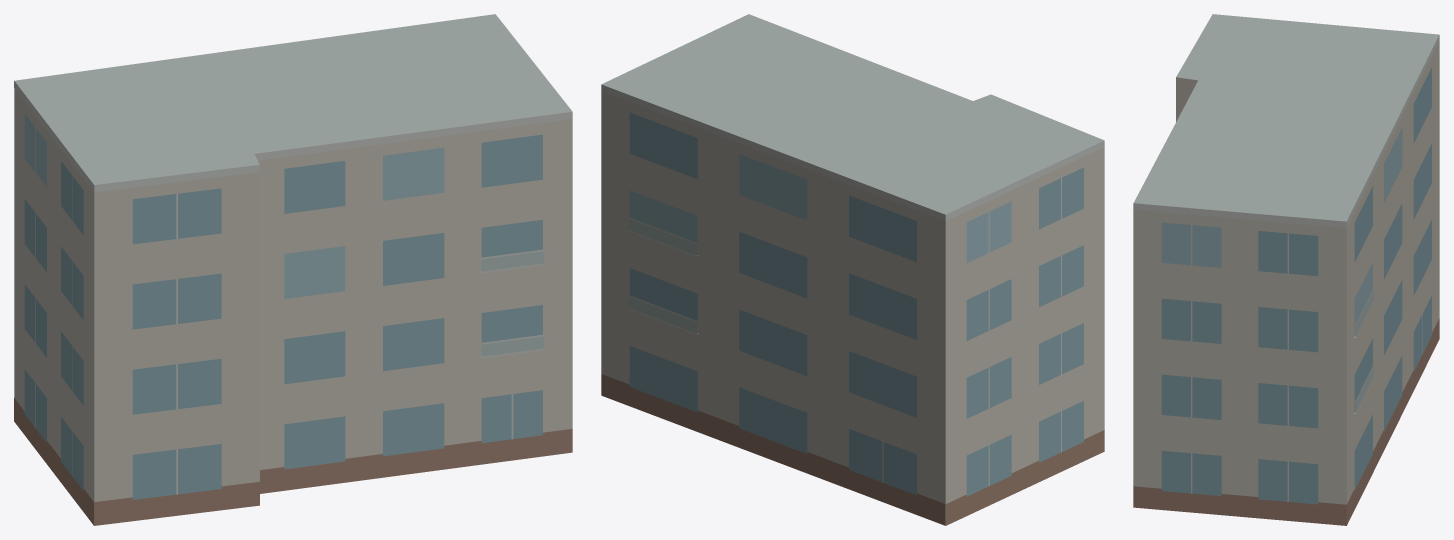
The model's file is survey-upis-32998241.glb.
3 renders of one model, left to right at view 1: azimuth 30°, elevation 25°; view 2: azimuth 150°, elevation 25°; view 3: azimuth 270°, elevation 25°, orthographic. The views are drawn at different scales.
Visible parts, largest first — view 1: survey-upis-32998241.tmp; view 2: survey-upis-32998241.tmp; view 3: survey-upis-32998241.tmp.
Part boxes in pixels (left/top/right/bottom): survey-upis-32998241.tmp: left=14, top=14, right=572, bottom=525; survey-upis-32998241.tmp: left=601, top=14, right=1104, bottom=525; survey-upis-32998241.tmp: left=1133, top=14, right=1439, bottom=525.
Bounding box in the file's own units: 16.83 × 11.5 × 10.5.
